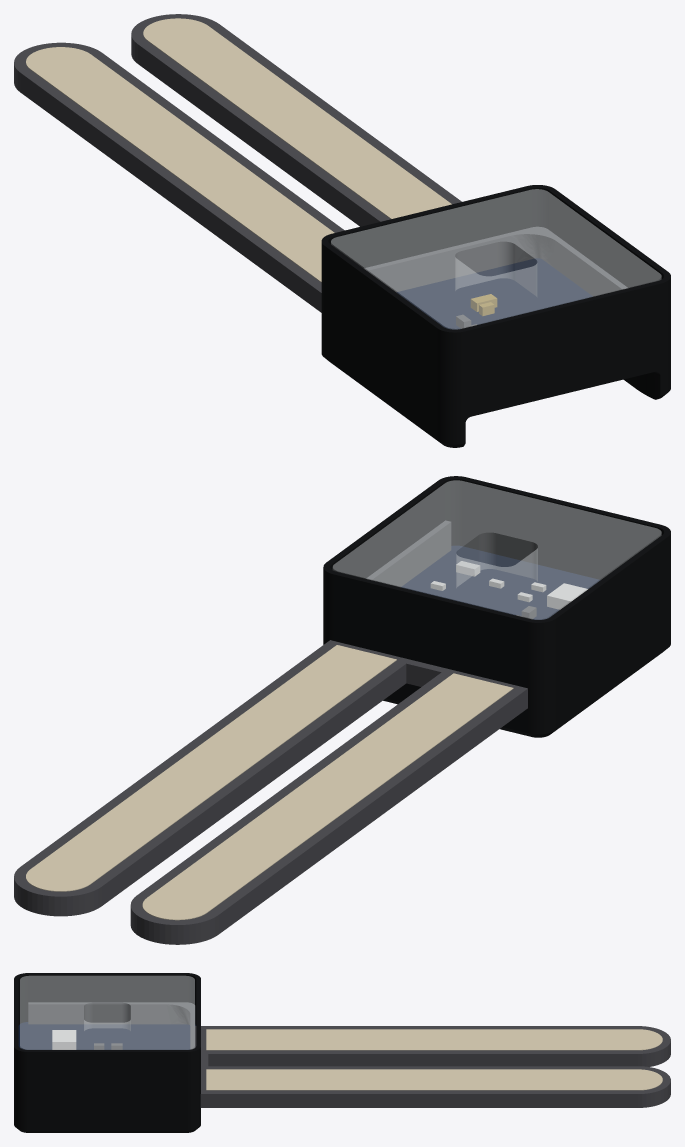
Rendered from soil-sensor.glb.
3 renders of one model, top to bottom at view 1: azimuth 30°, elevation 25°; view 2: azimuth 150°, elevation 25°; view 3: azimuth 270°, elevation 25°, orthographic. The views are drawn at different scales.
Visible parts, largest first — view 1: black, glass, derived_pad_left, derived_pad_right, derived_probe_left, derived_probe_right, grey, pcb; view 2: black, glass, derived_pad_left, derived_pad_right, derived_probe_left, derived_probe_right, pcb, grey, derived_probe_bridge; view 3: black, glass, derived_probe_right, derived_probe_left, derived_pad_right, derived_pad_left, grey, pcb, derived_probe_bridge, derived_coprocessor.
Boxes of the visible parts, x1=… form: black: x1=321, y1=185, x2=670, y2=447; glass: x1=331, y1=189, x2=661, y2=329; derived_pad_left: x1=26, y1=47, x2=334, y2=282; derived_pad_right: x1=143, y1=18, x2=451, y2=219; derived_probe_left: x1=14, y1=42, x2=344, y2=312; derived_probe_right: x1=131, y1=14, x2=461, y2=226; grey: x1=364, y1=226, x2=627, y2=328; pcb: x1=396, y1=258, x2=592, y2=329; black: x1=323, y1=476, x2=670, y2=737; glass: x1=333, y1=480, x2=661, y2=619; derived_pad_left: x1=142, y1=673, x2=513, y2=920; derived_pad_right: x1=26, y1=645, x2=396, y2=891; derived_probe_left: x1=130, y1=672, x2=527, y2=944; derived_probe_right: x1=14, y1=640, x2=406, y2=916; pcb: x1=401, y1=545, x2=600, y2=619; grey: x1=366, y1=520, x2=536, y2=619; derived_probe_bridge: x1=325, y1=640, x2=527, y2=711; black: x1=14, y1=973, x2=200, y2=1132; glass: x1=20, y1=976, x2=194, y2=1049; derived_probe_right: x1=200, y1=1066, x2=670, y2=1107; derived_probe_left: x1=195, y1=1026, x2=670, y2=1066; derived_pad_right: x1=206, y1=1069, x2=662, y2=1090; derived_pad_left: x1=206, y1=1029, x2=662, y2=1050; grey: x1=28, y1=1002, x2=195, y2=1049; pcb: x1=18, y1=1022, x2=195, y2=1049; derived_probe_bridge: x1=195, y1=1026, x2=208, y2=1107; derived_coprocessor: x1=52, y1=1030, x2=76, y2=1049.
Bounding box in the file's own units: 0.0195 × 0.00954 × 0.0685.
